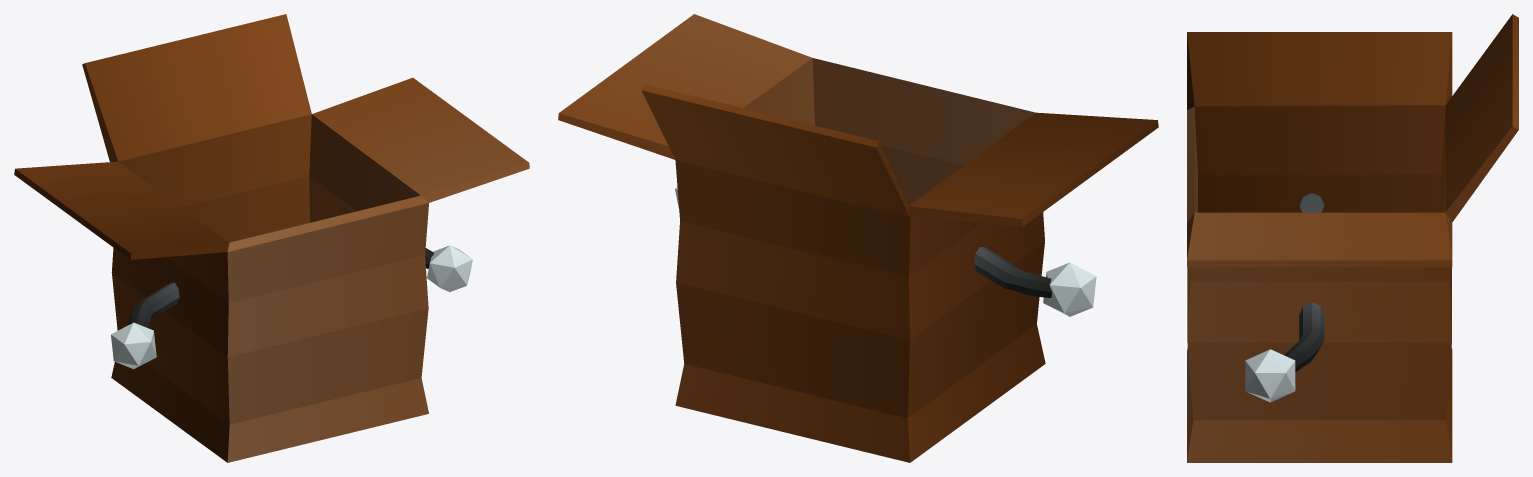
Rendered from carton.fbx.
3 views of the same model, side by side, from view 1: azimuth 30°, elevation 25°; view 2: azimuth 150°, elevation 25°; view 3: azimuth 270°, elevation 25° (orthographic). The views are drawn at different scales.
Visible parts, largest first — view 1: carton; view 2: carton; view 3: carton.
Part boxes in pixels (x1,y1,x2,y2): carton: (14,14,529,462); carton: (558,14,1158,462); carton: (1187,14,1518,462).
Bounding box in the file's own units: 76.98 × 54.41 × 48.58.
